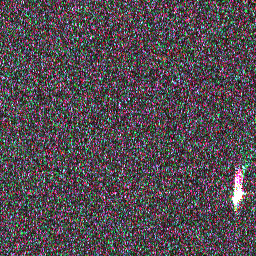ship: (229, 186, 246, 206)
